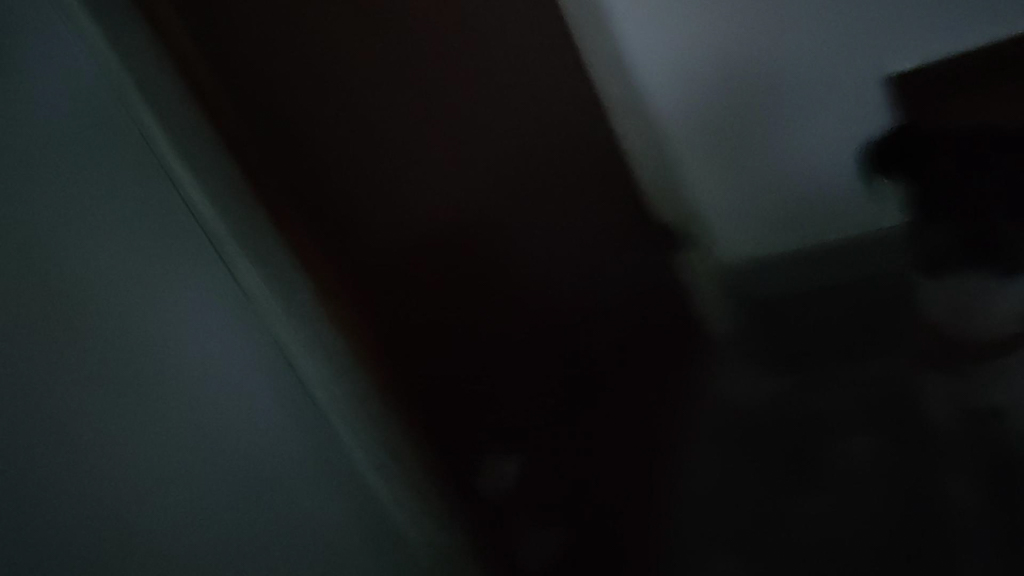Dog: (838, 106, 1024, 576)
